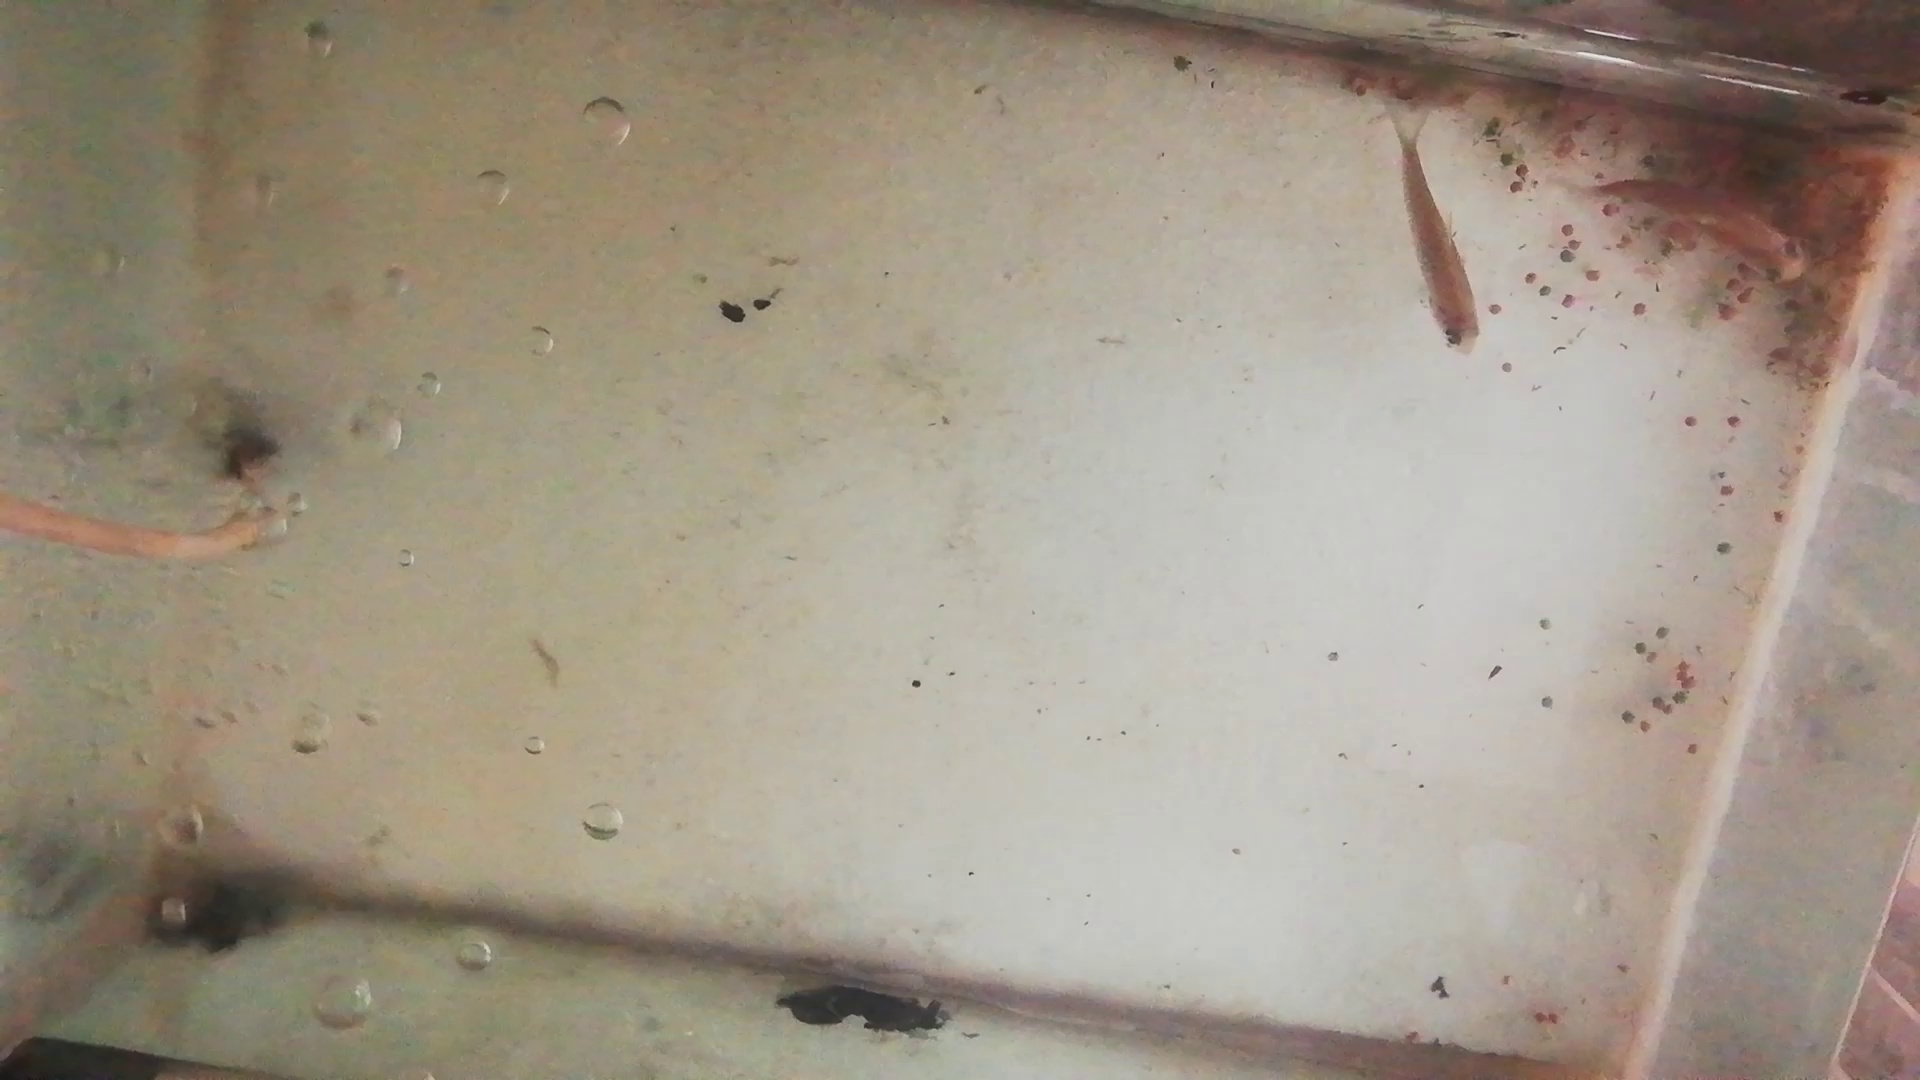fish: (1590, 179, 1808, 282), (1402, 136, 1477, 356)
